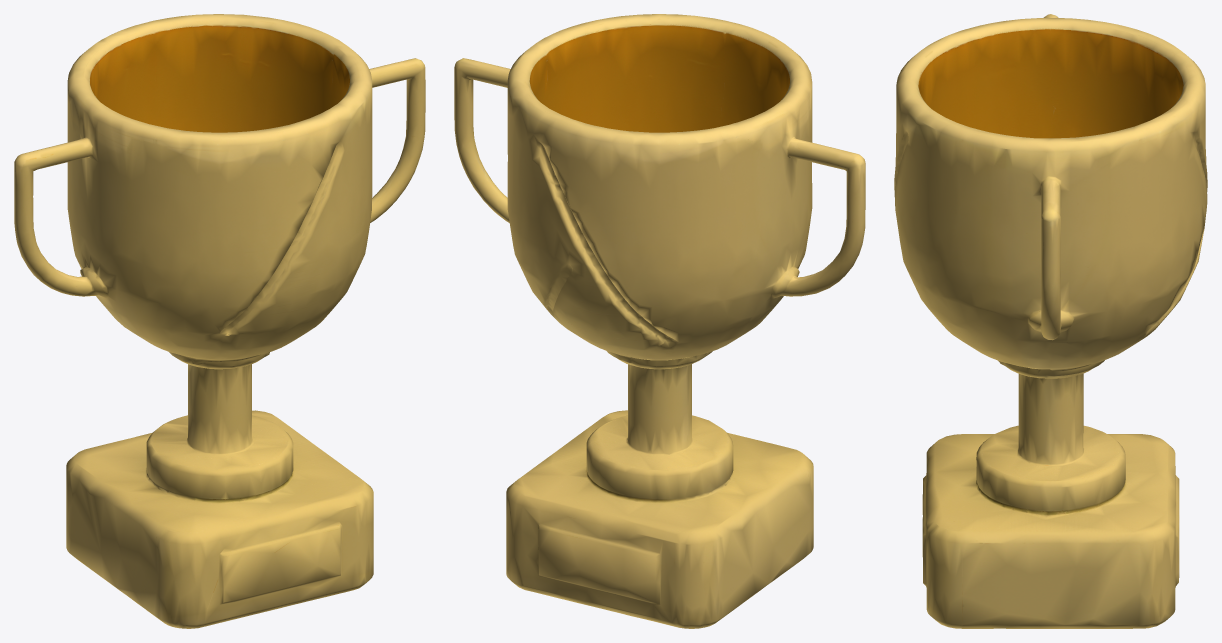
Rendered from trophy_gold.glb.
3 views of the same model, side by side, from view 1: azimuth 30°, elevation 25°; view 2: azimuth 150°, elevation 25°; view 3: azimuth 270°, elevation 25° (orthographic).
Parts seen in each view (by area): view 1: Mesh_0; view 2: Mesh_0; view 3: Mesh_0.
Boxes of the visible parts, left/top/right/bottom form: Mesh_0: left=14, top=14, right=425, bottom=628; Mesh_0: left=454, top=14, right=865, bottom=628; Mesh_0: left=894, top=14, right=1207, bottom=628.
Size of the model in its own units: 1.66 by 1.91 by 1.09.
Materials: 1 (1 with a texture image).
